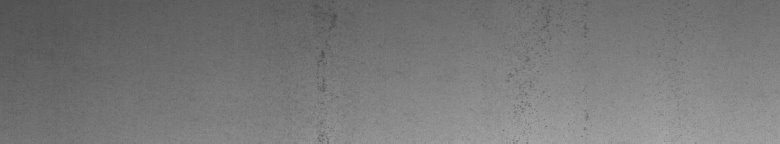ib: (508, 20, 589, 120)
